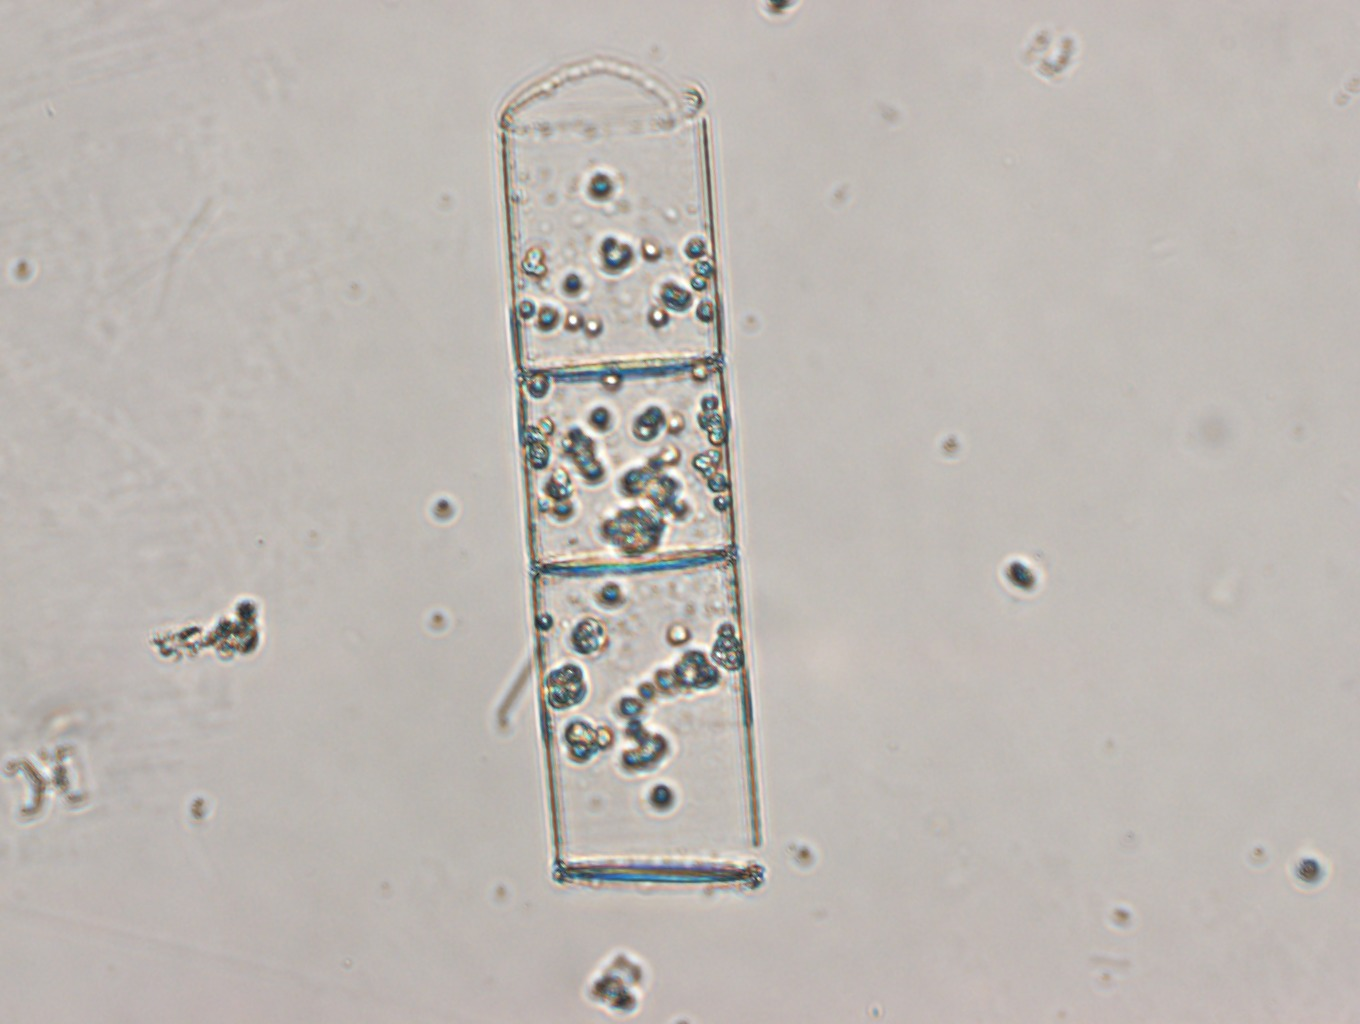guinardia flaccida: (493, 54, 771, 898)
